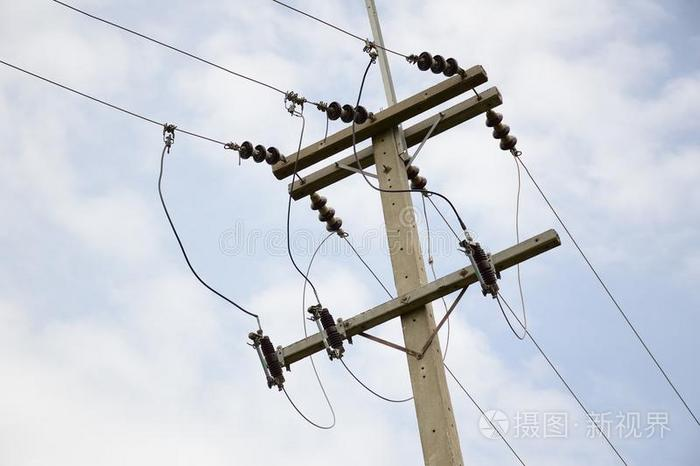insulator: (311, 196, 345, 232), (488, 109, 517, 149), (416, 51, 460, 77), (239, 141, 280, 165), (404, 154, 429, 192), (326, 100, 365, 124)
